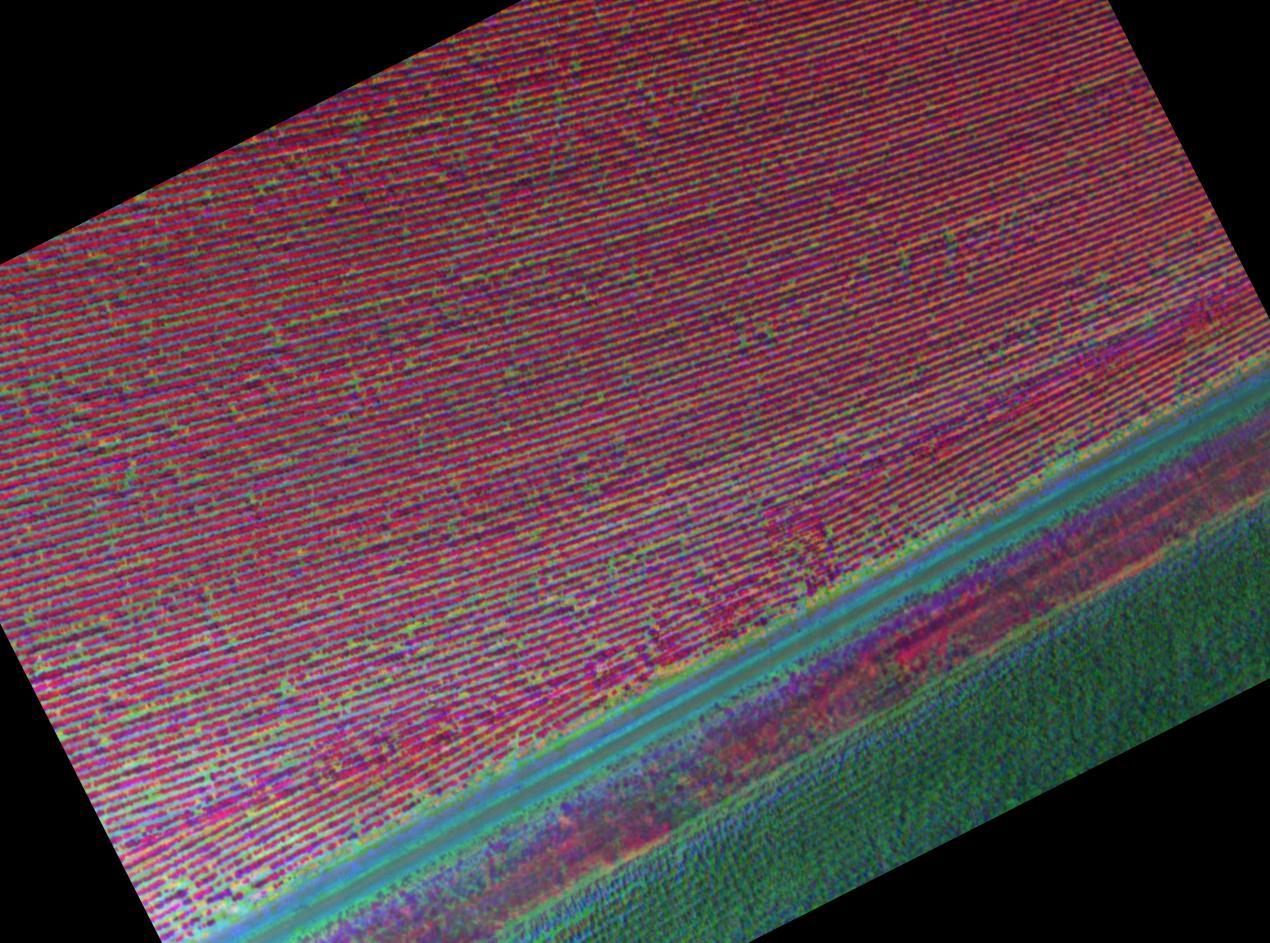dc: (839, 437, 844, 441), (598, 643, 604, 646), (407, 628, 411, 632), (1101, 274, 1105, 277), (1146, 316, 1149, 320), (354, 379, 357, 383)
